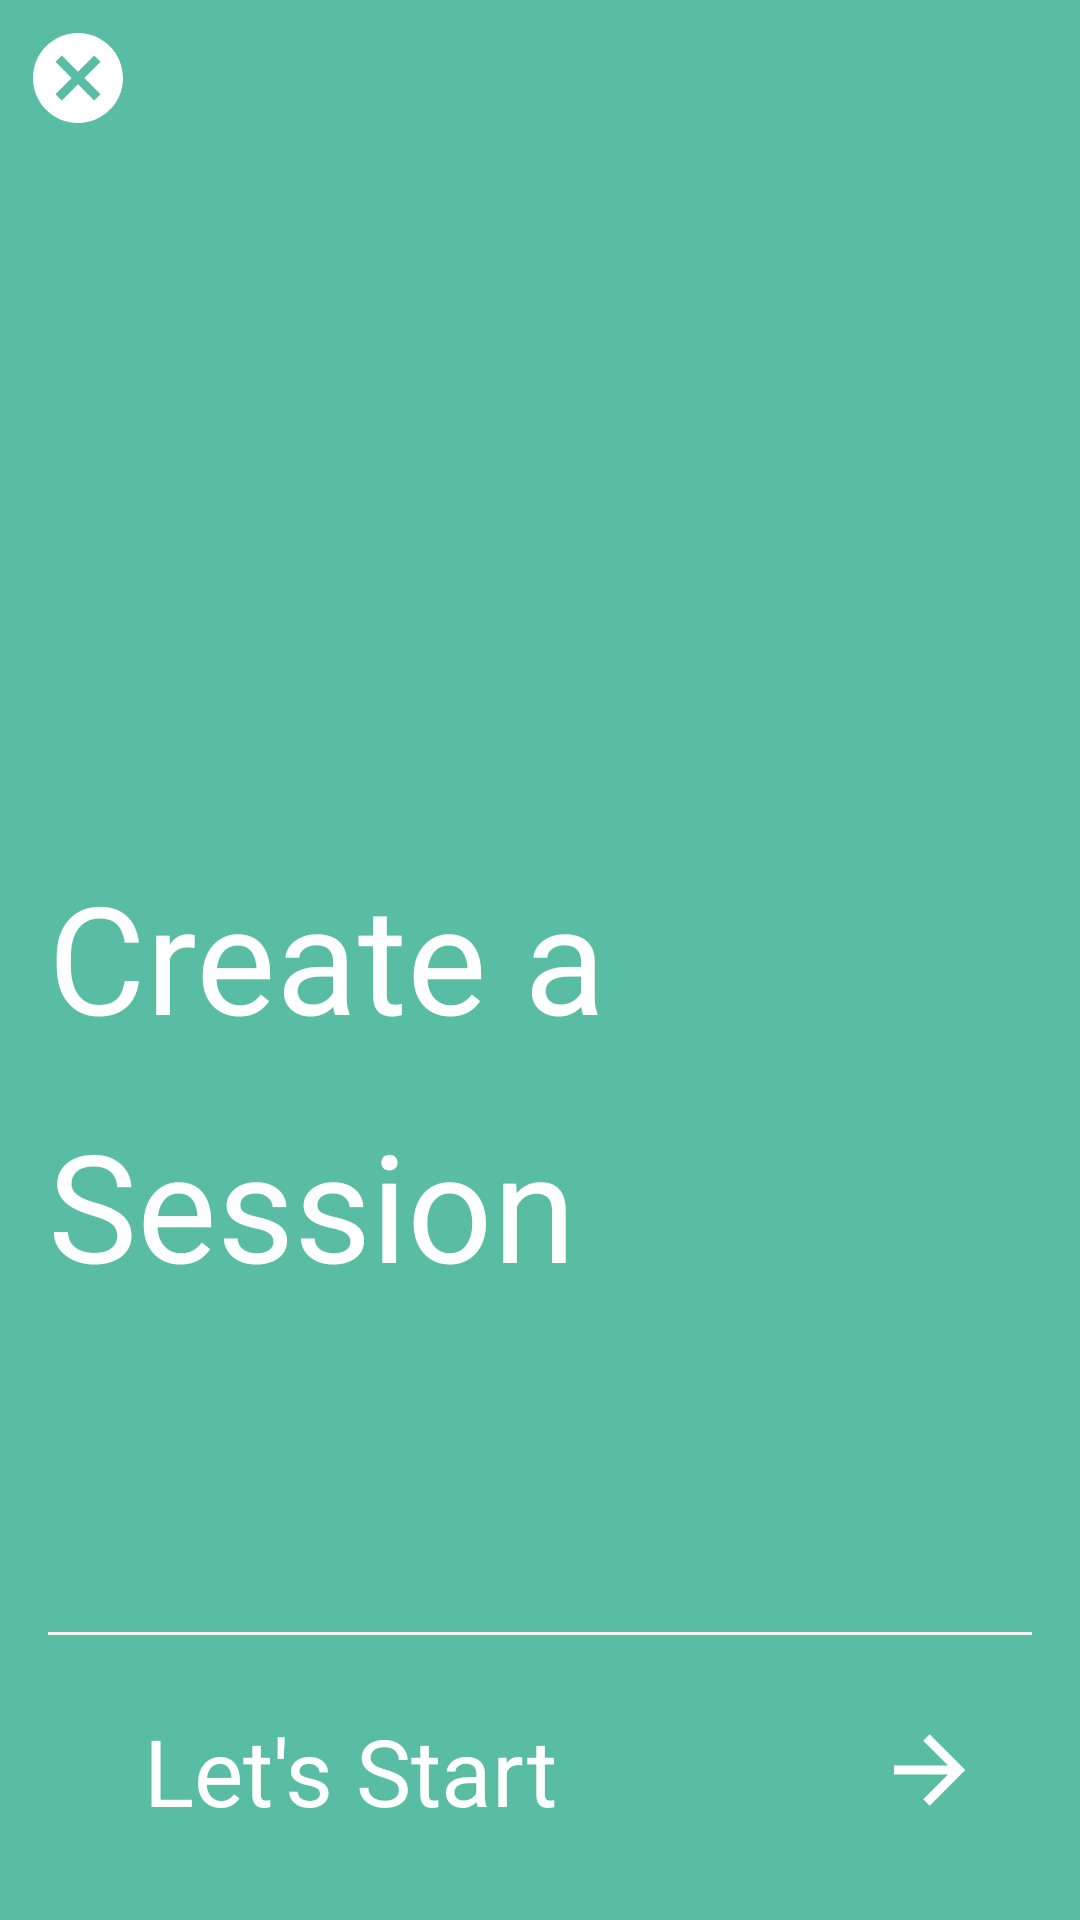

Icons on this 1080 × 1920 Android screen, each with its box as bbox=[x1, y1, x2, y2]:
arrow right: bbox=[894, 1734, 965, 1806]
close circle: bbox=[33, 33, 123, 123]
